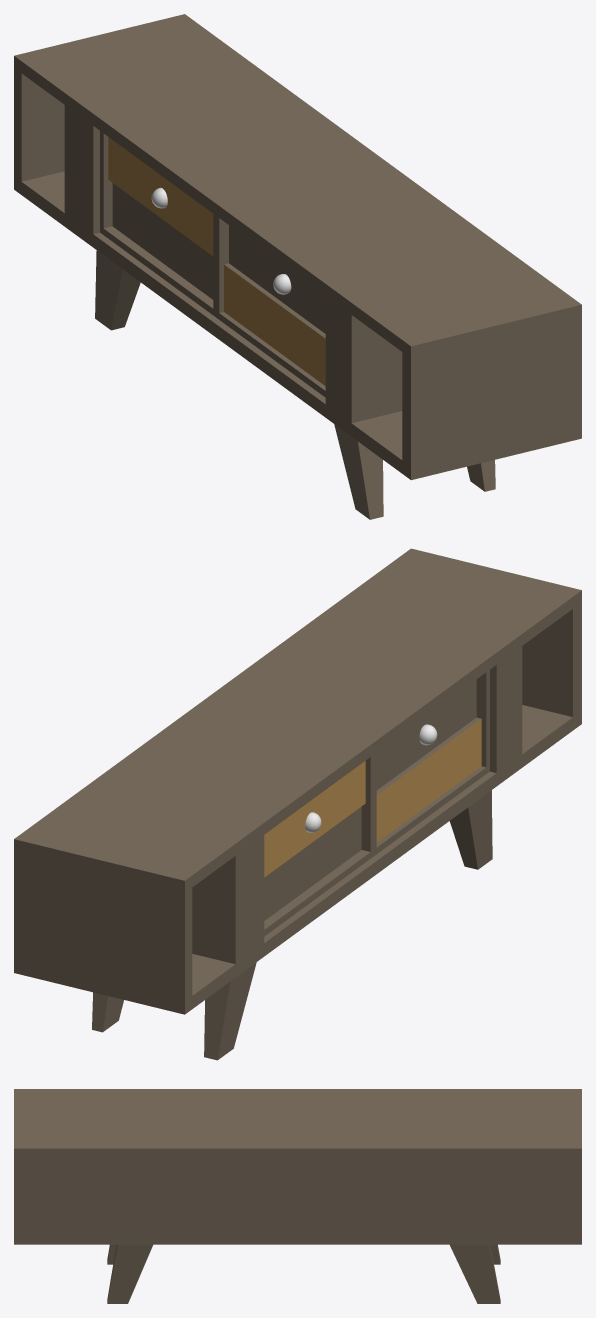
File: meuble_television.fbx
3 views of the same model, one above another, from view 1: azimuth 30°, elevation 25°; view 2: azimuth 150°, elevation 25°; view 3: azimuth 270°, elevation 25° (orthographic). The views are drawn at different scales.
Parts seen in each view (by area): view 1: pCube1; view 2: pCube1; view 3: pCube1.
Part boxes in pixels (left/top/right/bottom): pCube1: left=14, top=14, right=581, bottom=519; pCube1: left=14, top=548, right=581, bottom=1060; pCube1: left=14, top=1089, right=581, bottom=1303.
Size of the model in its own units: 1.45 by 1.85 by 5.85.
